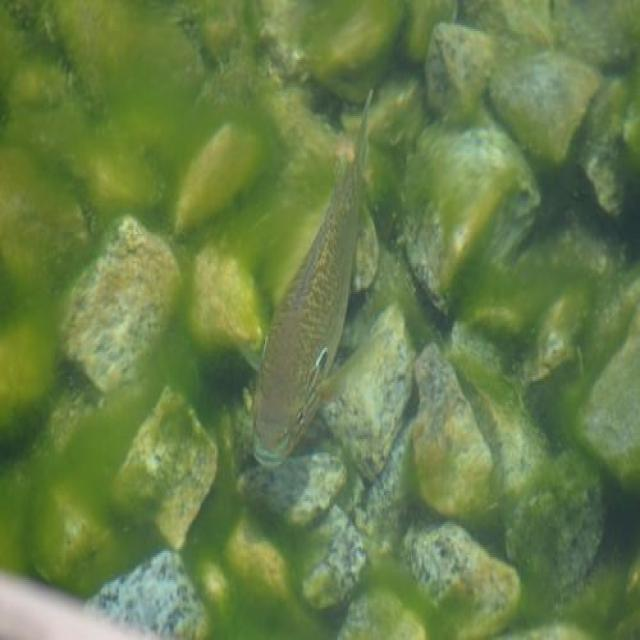Gunes Levregi: (251, 83, 375, 476)
